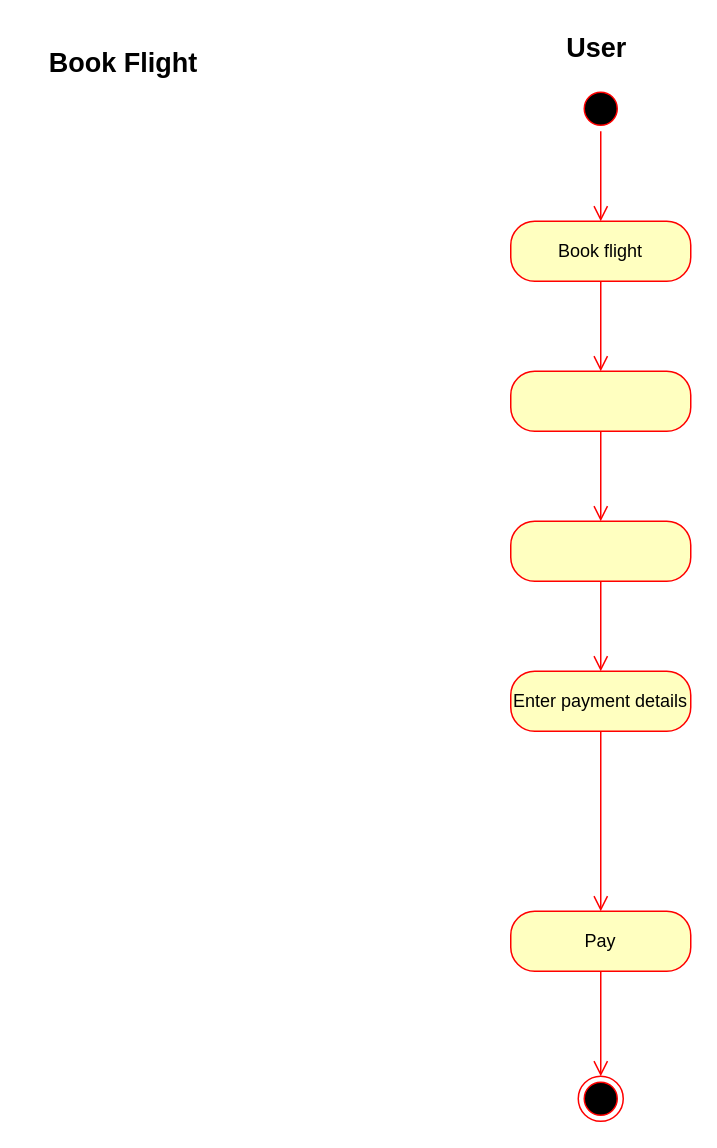
Image size: 717x1148. Some labels were removed from this diagram. Each missing label, with the centre of its shape:
Choose flight time & destination: the point at 600,400
Make reservation: the point at 600,550
